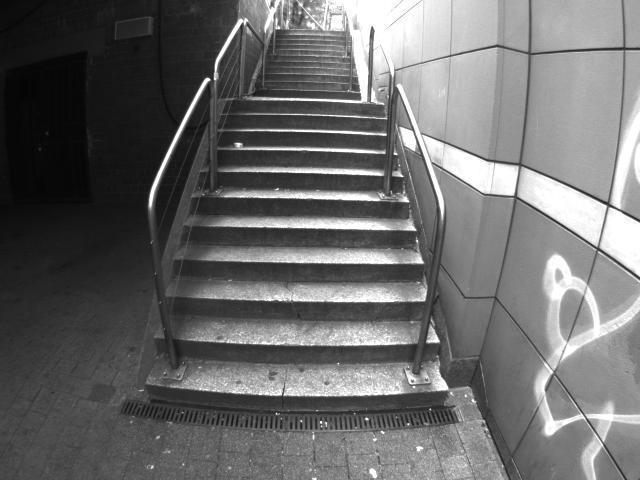Escaleras: (165, 107, 455, 407), (251, 26, 358, 103)
